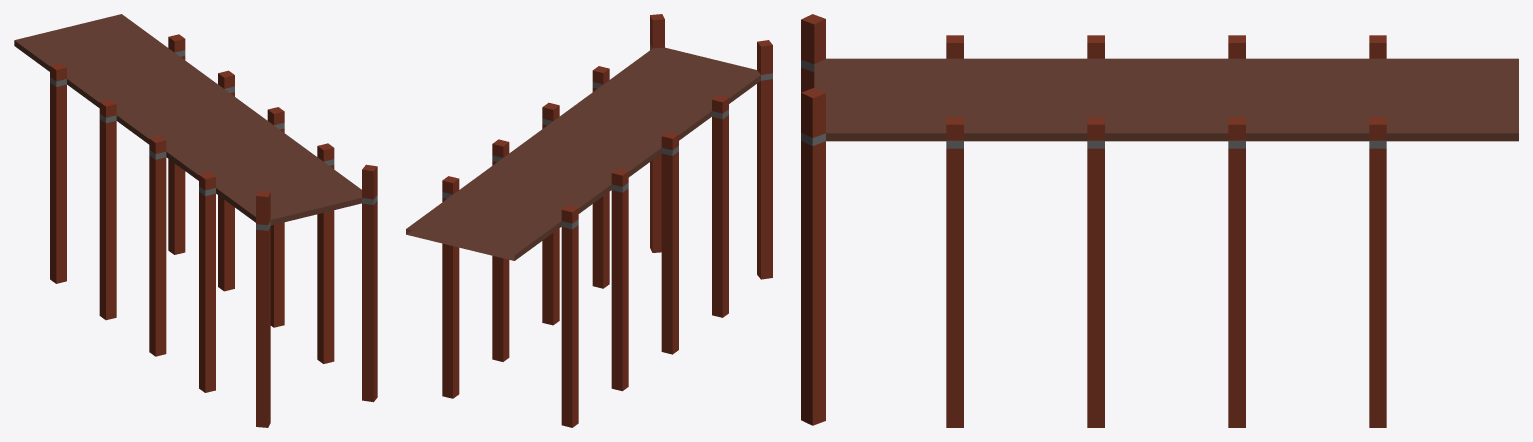
The model's file is Farmi_Laituri.fbx.
3 renders of one model, left to right at view 1: azimuth 30°, elevation 25°; view 2: azimuth 150°, elevation 25°; view 3: azimuth 270°, elevation 25°, orthographic. The views are drawn at different scales.
Parts seen in each view (by area): view 1: Plane; view 2: Plane; view 3: Plane.
Boxes of the visible parts, x1,y1,x2,y2 form: Plane: (14, 14, 377, 427); Plane: (406, 14, 772, 427); Plane: (801, 14, 1518, 427).
Bounding box in the file's own units: 240 × 410 × 815.
